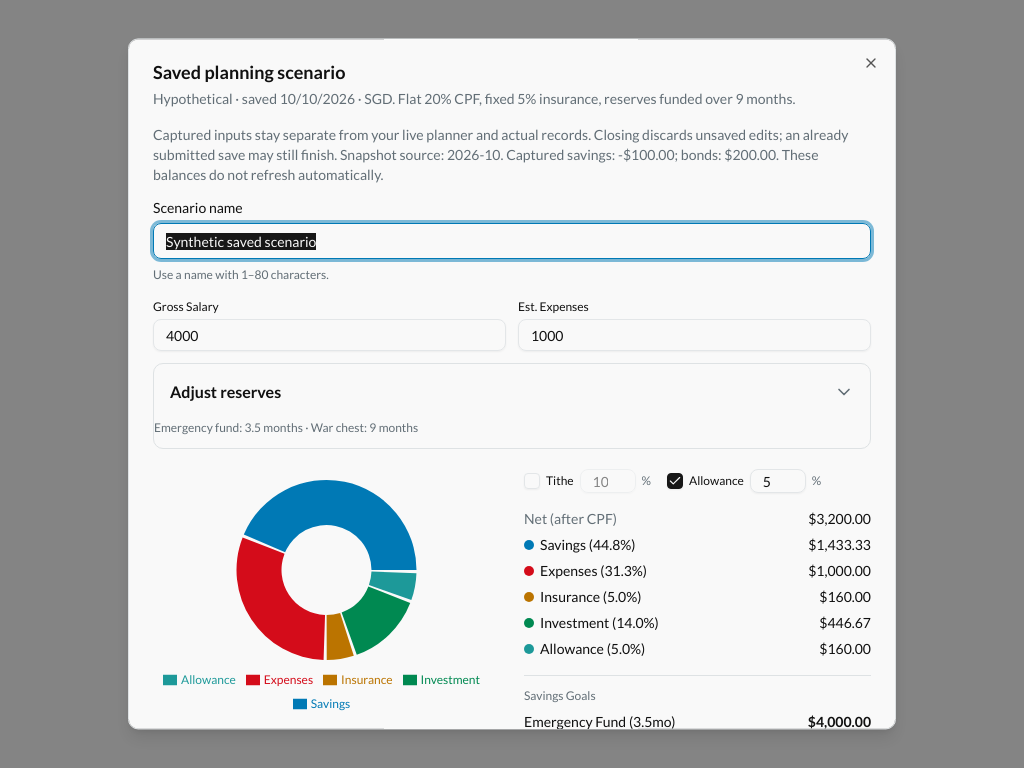
Scenario: saved scenario isolation › preserves drafts on conflict and requires authoritative reload before save-as-new
Replace the text in the field labelled "Scenario name" with "Preserved draft" at [512, 241], box [153,223,871,259]
(page scrolled)
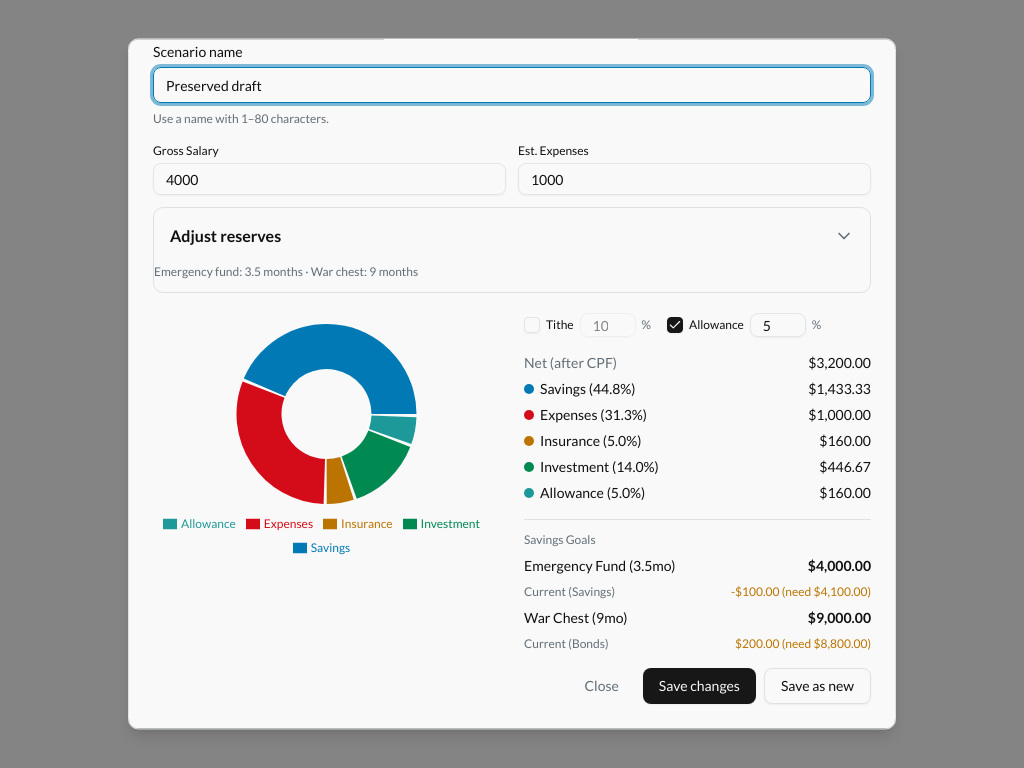
Click the button "Save changes" at [699, 686], box [643,668,756,704]
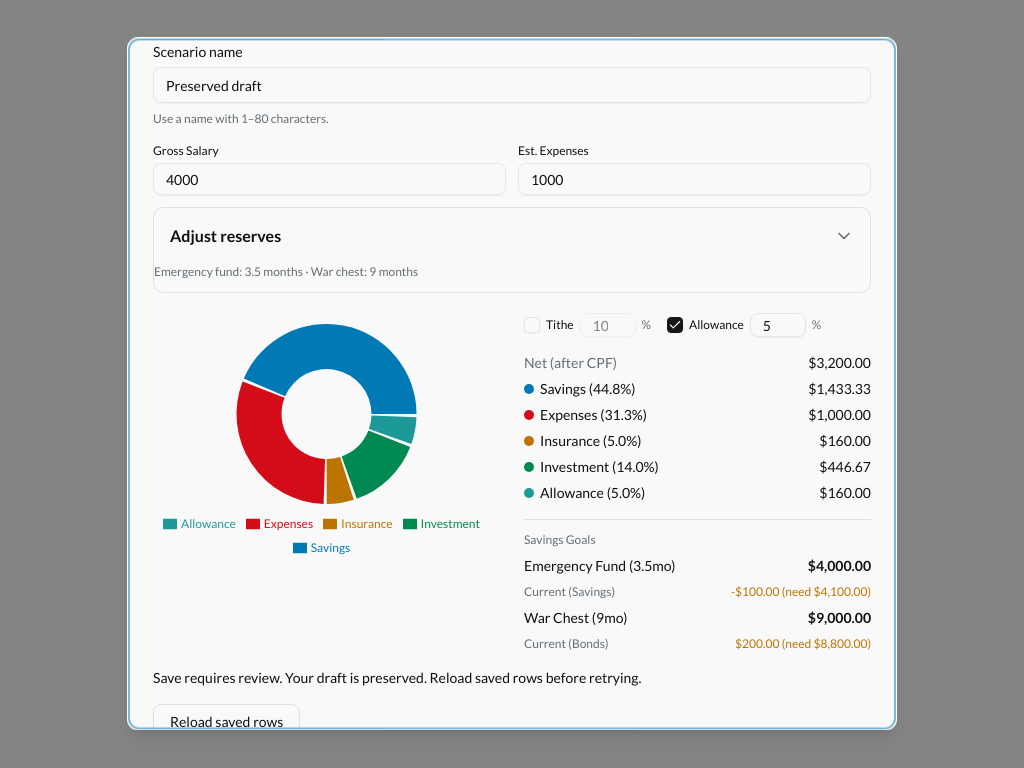
Expected: the text "Save requires review" is shown, [153,669,642,686]
Click the button "Reload saved rows" at [227, 722], box [153,704,300,740]
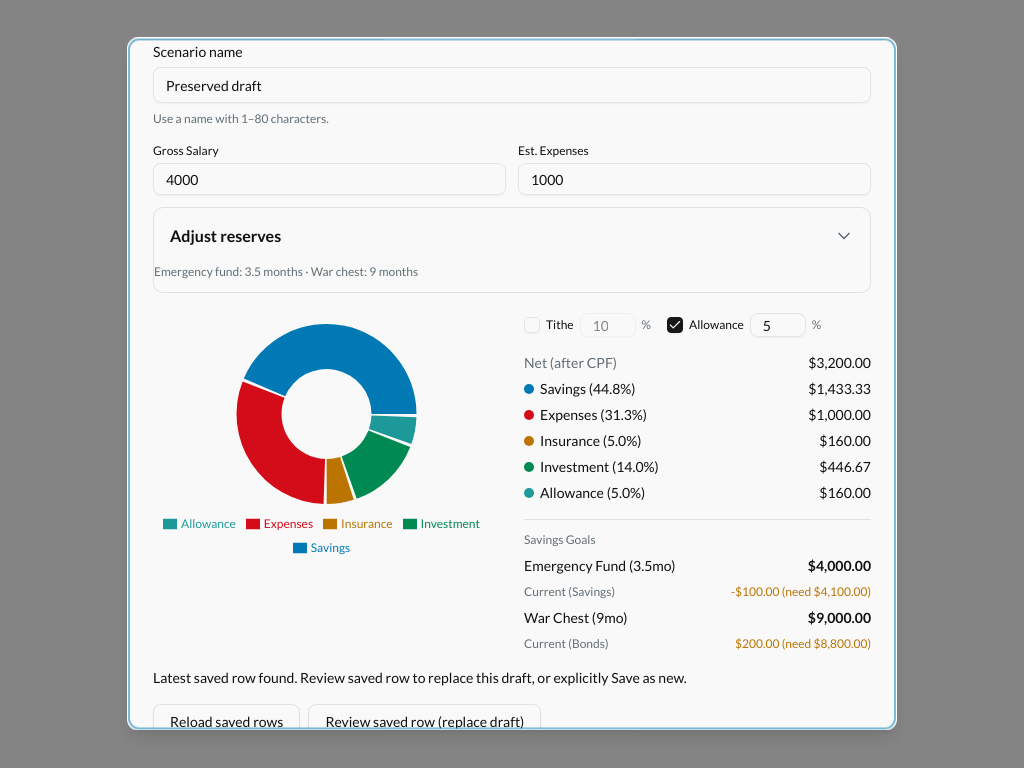
Expected: the text "Latest saved row found" is shown, [153,669,687,686]
Click the button "Review saved row (replace draft)" at [425, 722], box [308,704,541,740]
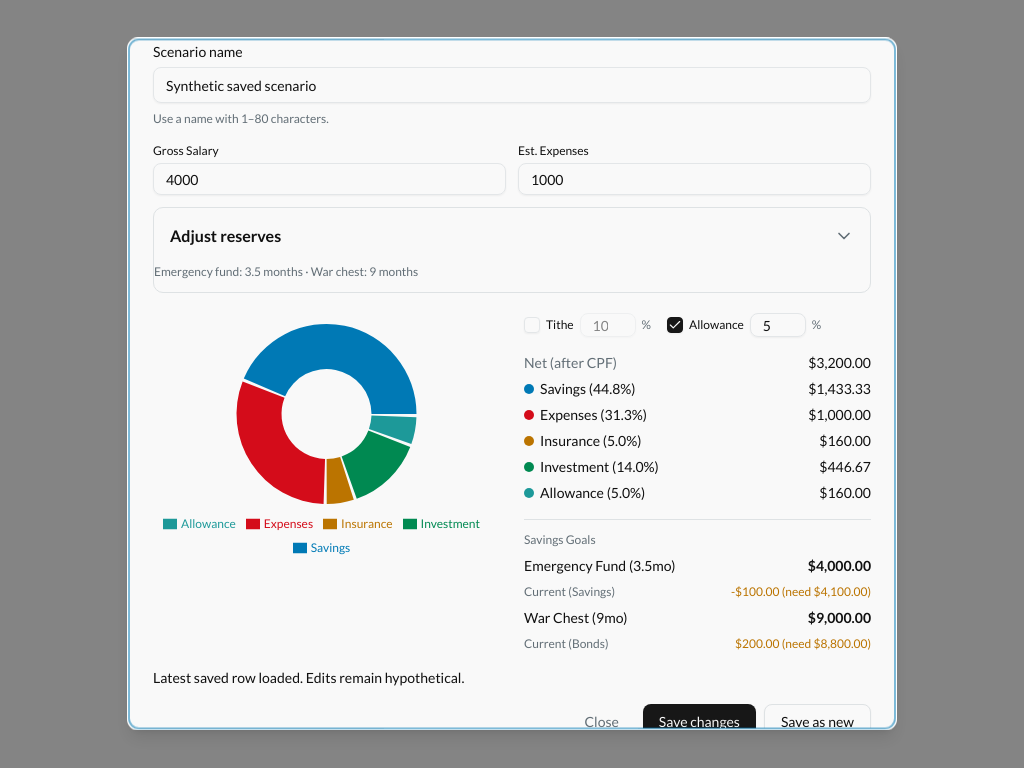
Expected: the field labelled "Scenario name" holds "Synthetic saved scenario", [153,67,871,103]
Expected: the button "Save changes" is enabled, [643,704,756,730]
